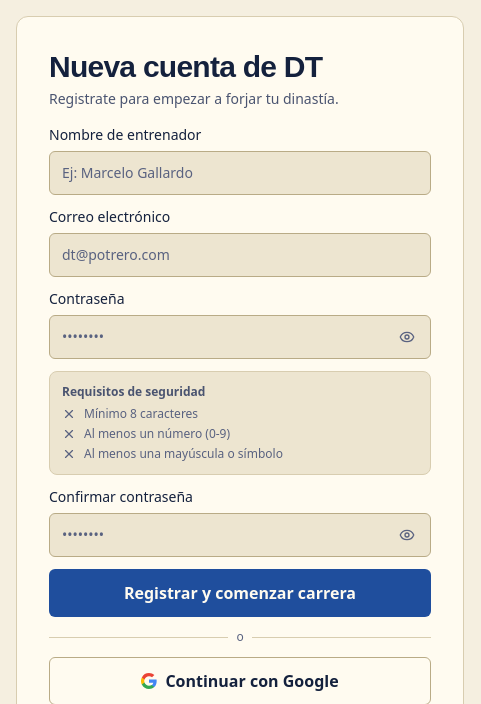
ingreso con Google y reCAPTCHA › si la cuenta pide confirmar el correo, avisa y vuelve al ingreso en vez de seguir
Type "Nuevo" into the field labelled "Nombre de entrenador" at x=240, y=173, box [49,151,431,195]
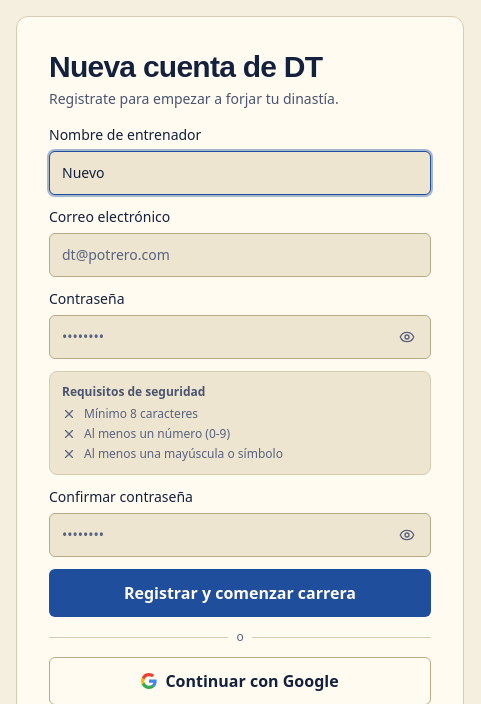
Type "nuevo@dt.com" into the field labelled "Correo electrónico" at x=240, y=255, box [49,233,431,277]
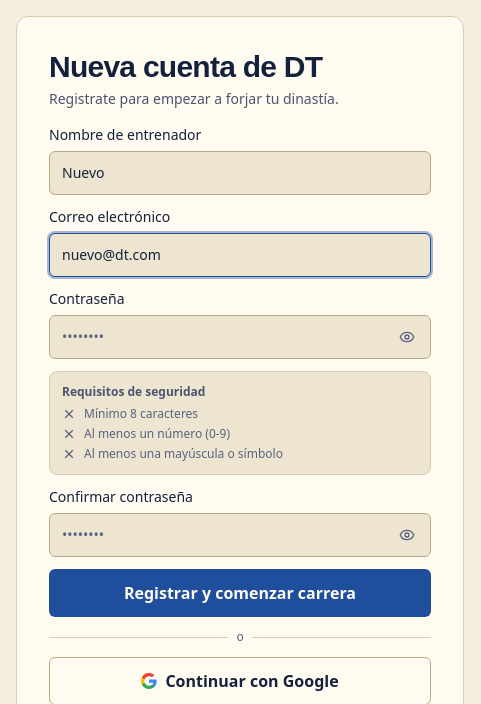
Type "Potrero2026" into the password field labelled "Contraseña" at x=240, y=337, box [49,315,431,359]
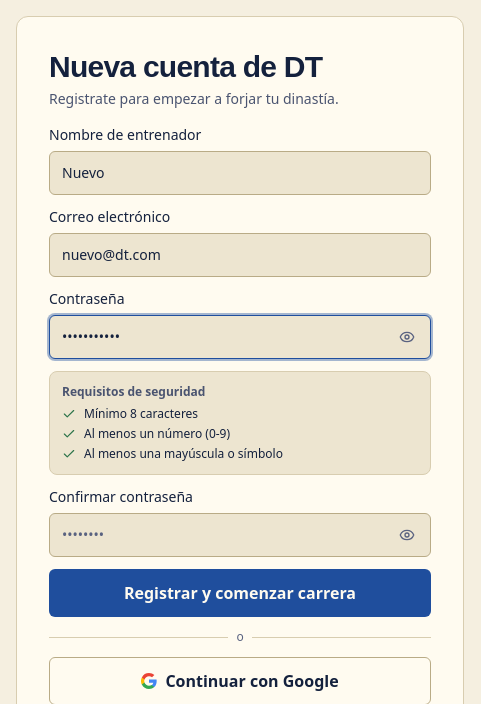
Type "Potrero2026" into the password field labelled "Confirmar contraseña" at x=240, y=535, box [49,513,431,557]
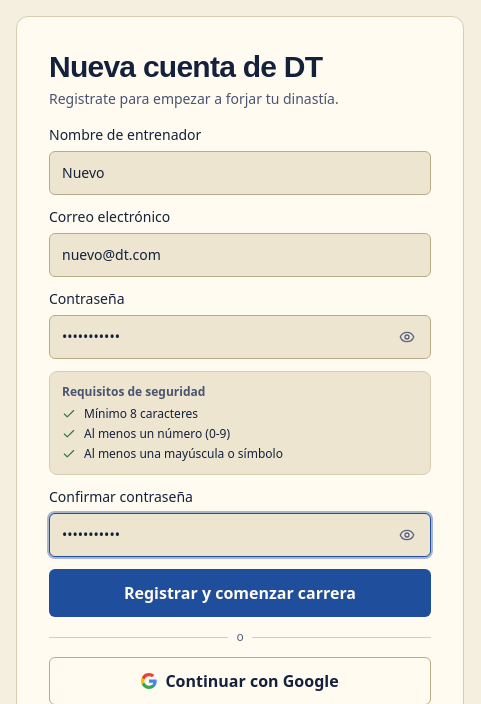
Click the button "Registrar y comenzar carrera" at x=240, y=593, box [49,569,431,617]
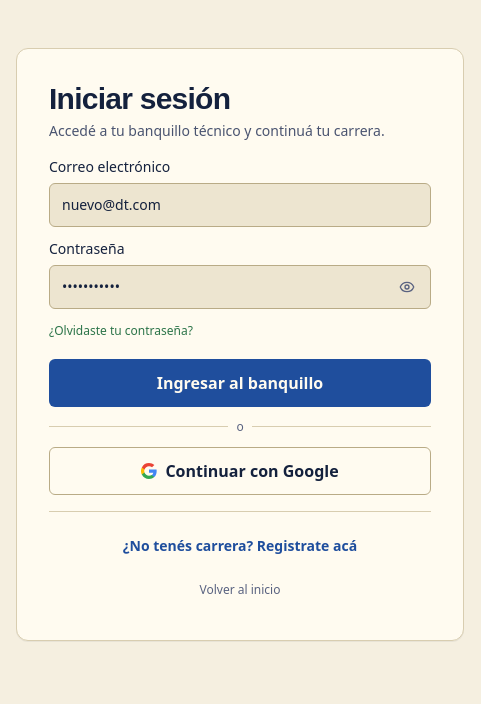
expect the heading "Iniciar sesión" is shown: met, box [49,82,230,114]
